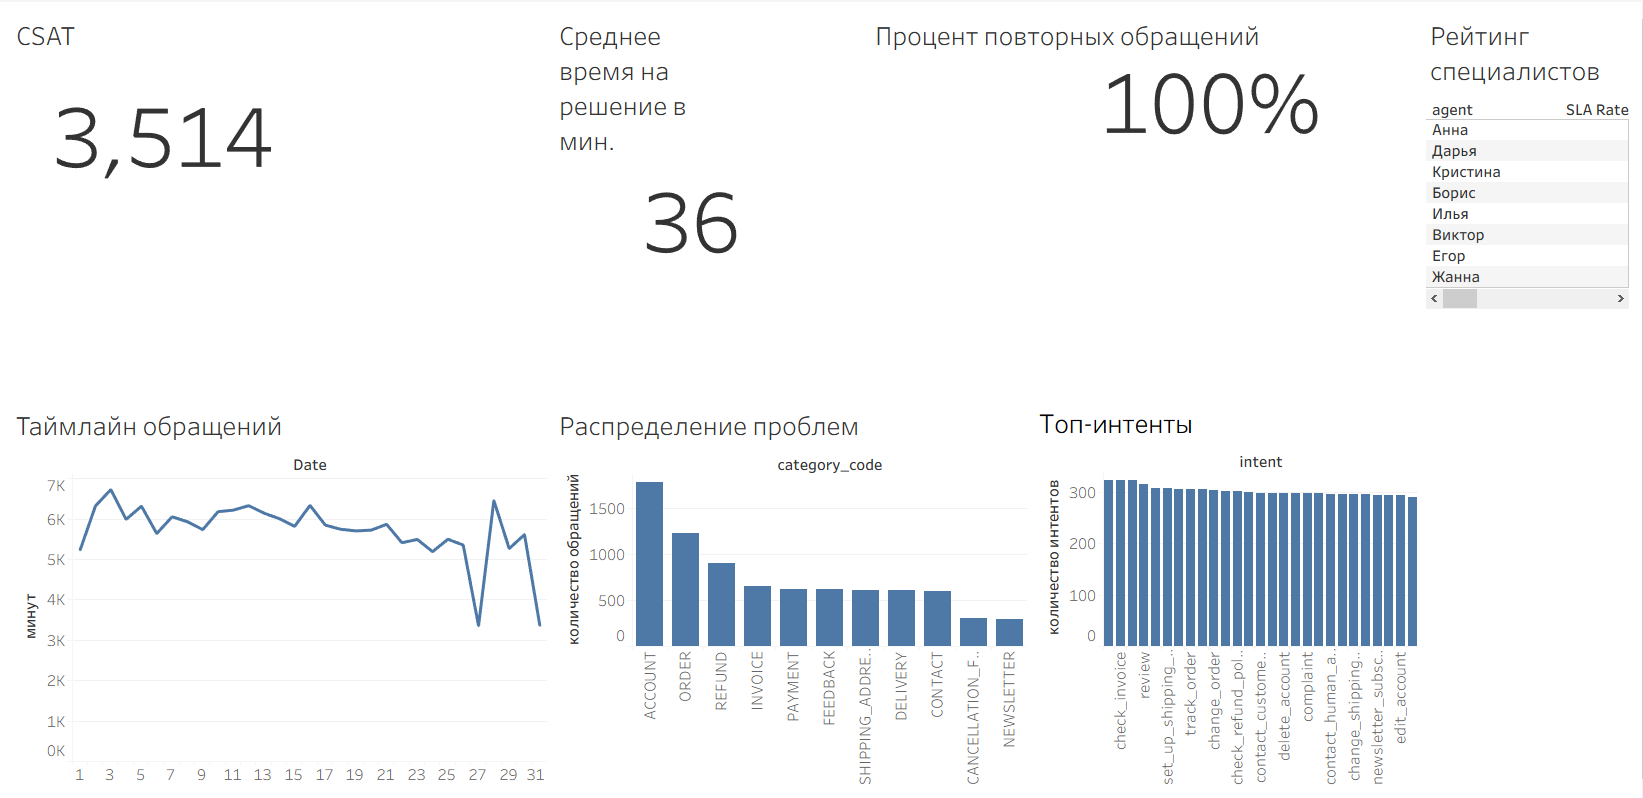

The page's visual inventory and layout, read from the dashboard file:
{"tool":"tableau","page":{"name":"Dashboard 1","canvas":[1000,1000],"units":"permille","ordinal":0},"visuals":[{"type":"worksheet","title":"CSAT","mark":"Automatic","box":[4.9,10.1,330.9,489.9]},{"type":"worksheet","title":"среднее время на решение","mark":"Automatic","box":[335.8,10.1,192.6,489.9]},{"type":"worksheet","title":"Процент повторных обращений","mark":"Automatic","box":[528.3,10.1,338.2,489.9]},{"type":"worksheet","title":"Рейтинг специалистов","mark":"Automatic","rows":["agent"],"box":[866.5,10.1,128.6,979.9]},{"type":"worksheet","title":"Таймлайн обращений","mark":"Line","rows":["resolution_minutes"],"cols":["Calculation_309904017624068102"],"box":[4.9,500,330.9,489.9]},{"type":"worksheet","title":"Распределение проблем","mark":"Bar","rows":["Calculation_309904017628094474"],"cols":["category_code"],"box":[335.8,500,292.5,489.9]},{"type":"worksheet","title":"Топ интентов","mark":"Automatic","rows":["Calculation_309904017628426251"],"cols":["intent"],"box":[628.3,500,238.3,489.9]}]}

Visuals, with their boxes on the dashboard's canvas, which has no fixed pixel size, in thousandths of its width and height (x1, y1, x2, y2). These are canvas units, not pixel positions in the 1643x798 screenshot, which may show the page scaled, cropped or inside an application window:
"CSAT" worksheet: bbox=[5, 10, 336, 500]
"среднее время на решение" worksheet: bbox=[336, 10, 528, 500]
"Процент повторных обращений" worksheet: bbox=[528, 10, 866, 500]
"Рейтинг специалистов" worksheet: bbox=[866, 10, 995, 990]
"Таймлайн обращений" worksheet (Line marks): bbox=[5, 500, 336, 990]
"Распределение проблем" worksheet (Bar marks): bbox=[336, 500, 628, 990]
"Топ интентов" worksheet: bbox=[628, 500, 867, 990]
